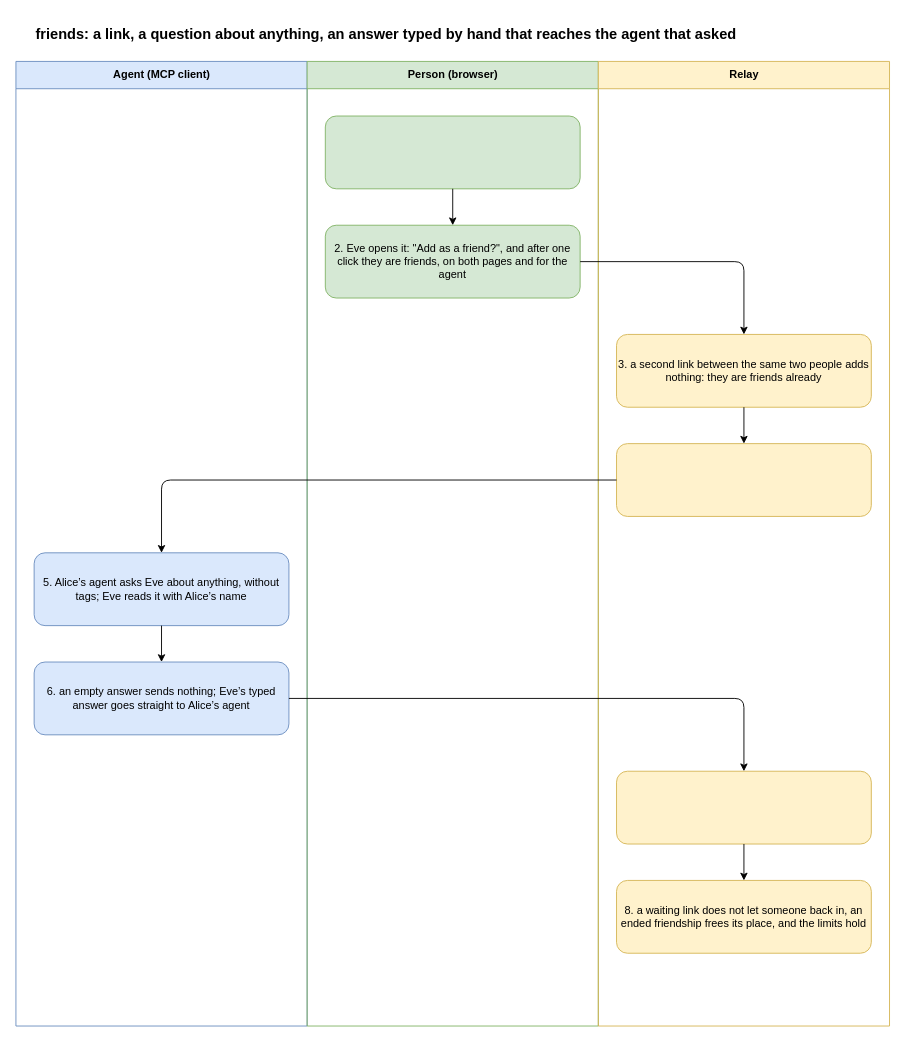
This 905x1042 diagram has some shape labels left out. The shapes that lost their labels are listed below. From the top down, each one's centre as x and y in pixels, then its label:
the point at 452,152: 1. "Add a friend" on the Circle page gives a link, shown once
the point at 743,479: 4. the link worked once, and a friendship takes nobody else
the point at 743,807: 7. Eve ends the friendship: gone from both pages, and neither can ask the other
